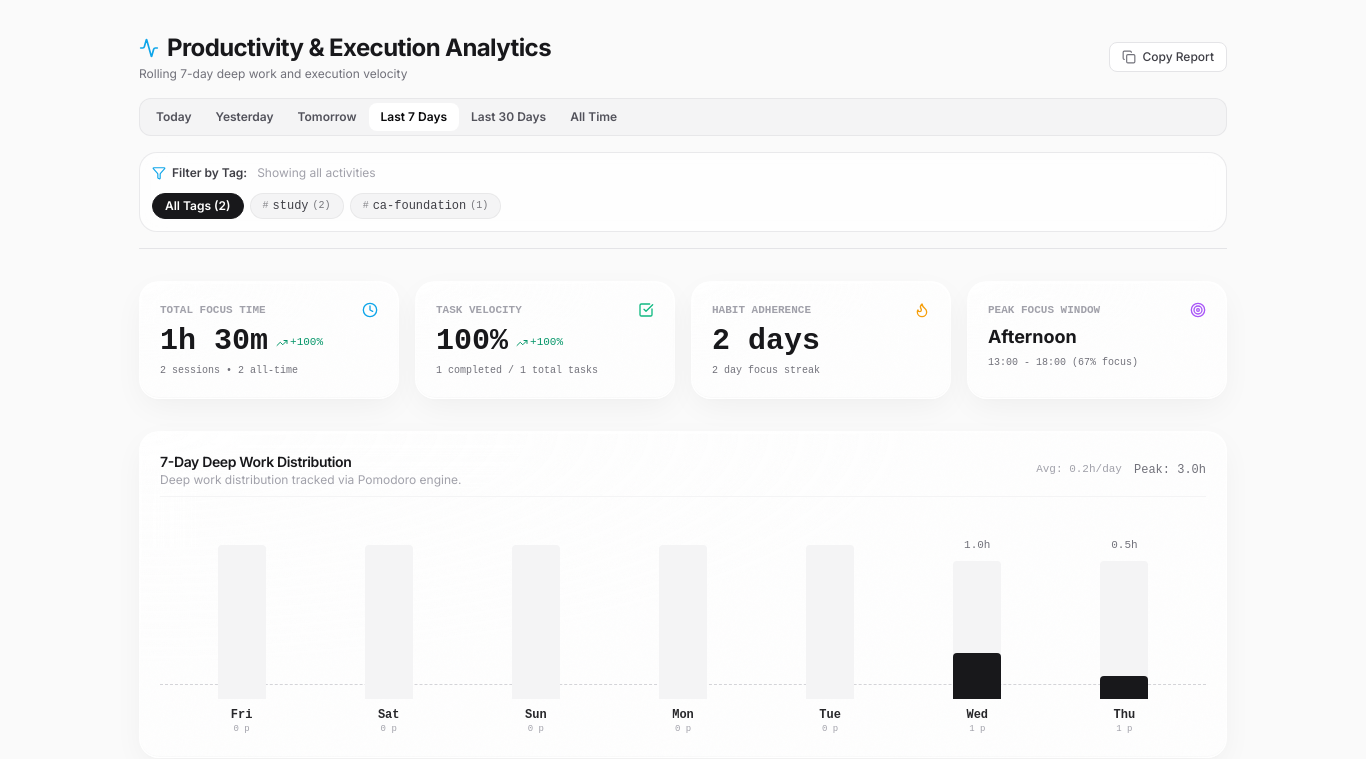
Scenario: Analytics Time Horizon & Tag Filtering Engine › switches between Today, Yesterday, and Tomorrow updating chart and metrics
# Switch to "Today"
Click the button "Today".
click(174, 117)  # box [144, 103, 204, 131]
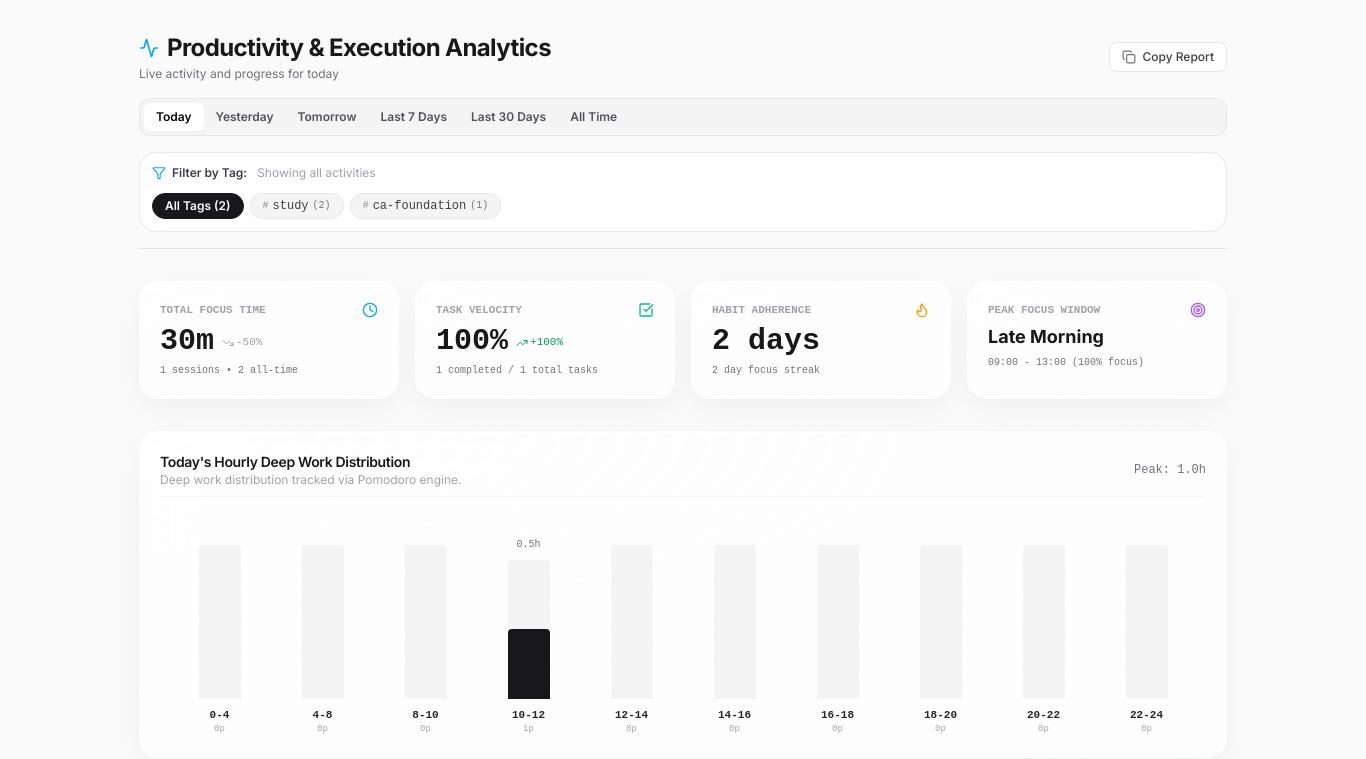
Expected: the text "Live activity and progress for today" is shown, [139, 66, 339, 81]
Expected: the heading "Today's Hourly Deep Work Distribution" is shown, [160, 452, 410, 470]
# Switch to "Yesterday"
Click the button "Yesterday".
click(244, 117)  # box [204, 103, 286, 131]
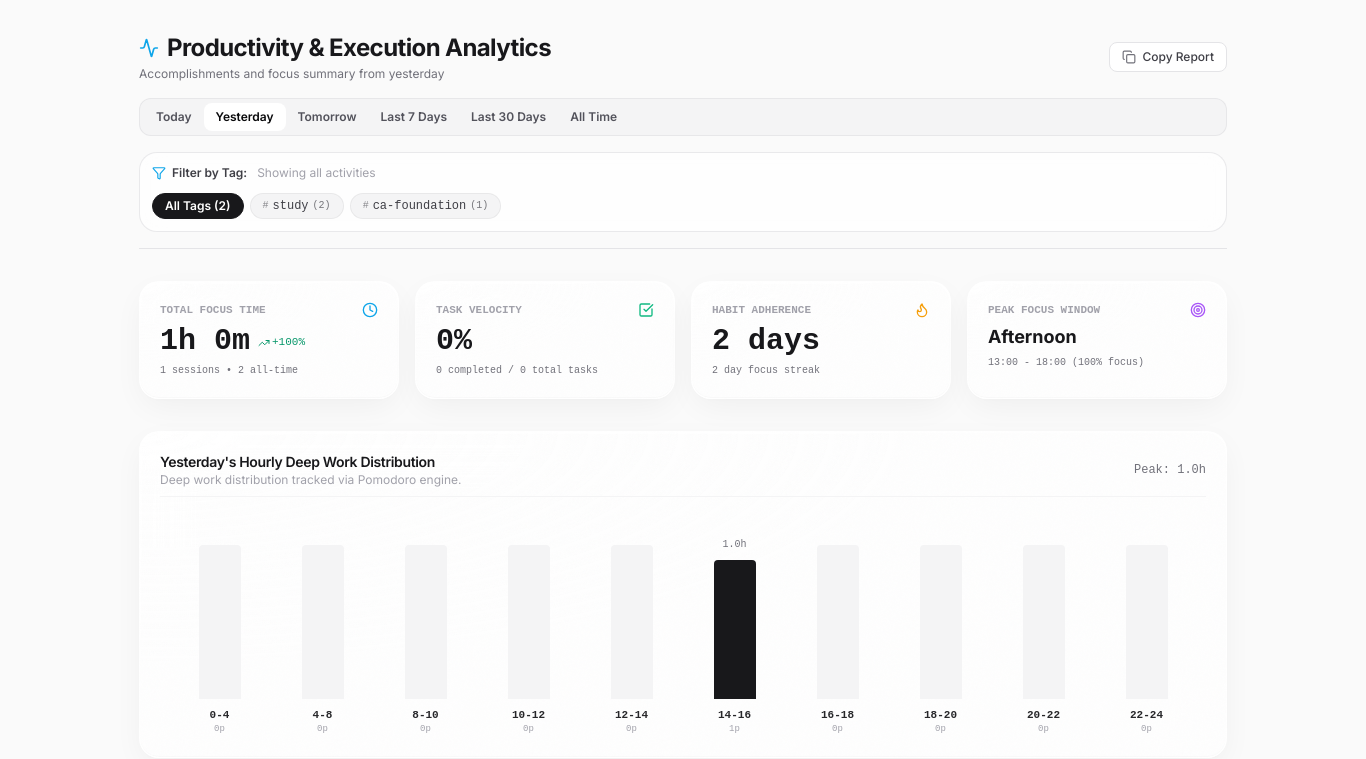
Expected: the text "Accomplishments and focus summary from yesterday" is shown, [139, 66, 444, 81]
Expected: the heading "Yesterday's Hourly Deep Work Distribution" is shown, [160, 452, 462, 472]
# Switch to "Tomorrow"
Click the button "Tomorrow".
click(327, 117)  # box [286, 103, 369, 131]
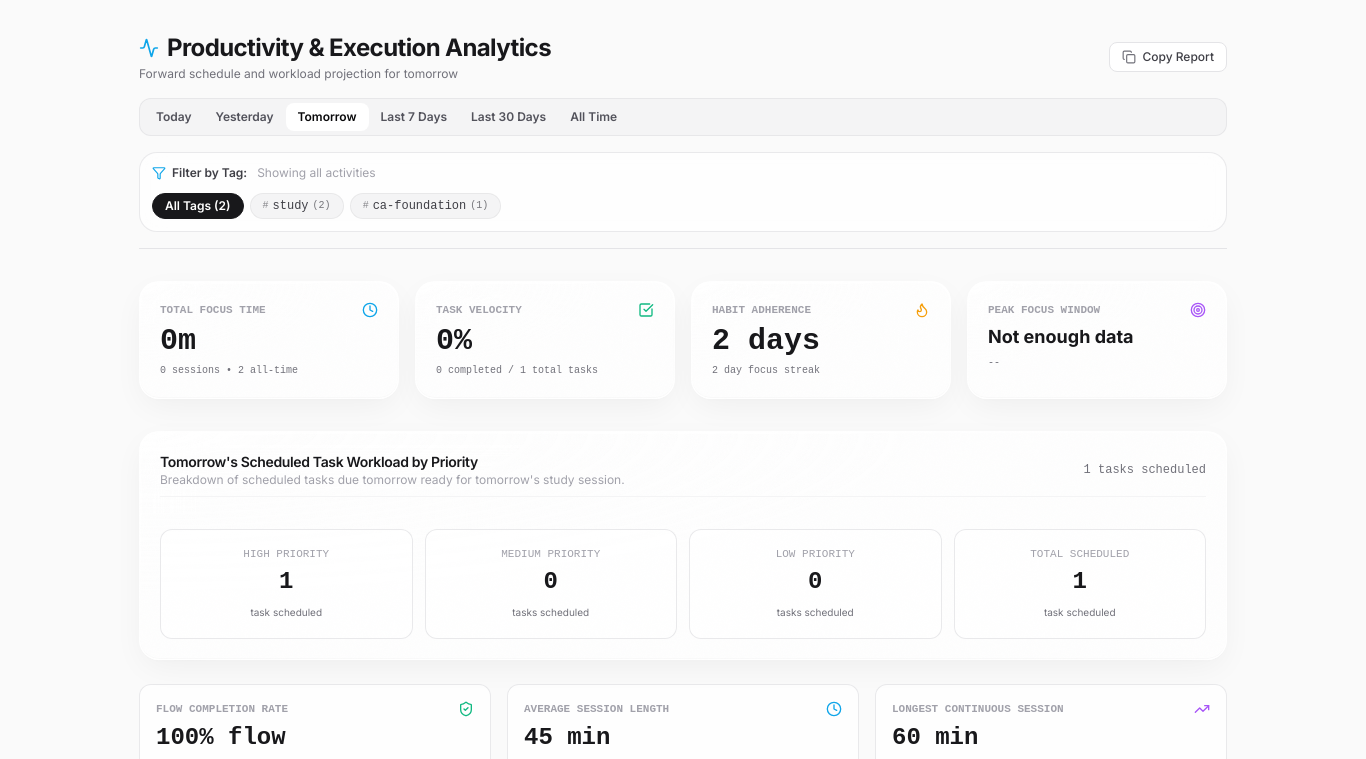
Expected: the text "Forward schedule and workload projection for tomorrow" is shown, [139, 66, 458, 81]
Expected: the heading "Tomorrow's Scheduled Task Workload by Priority" is shown, [160, 452, 478, 470]
Expected: the text "High Priority" is shown, [243, 548, 329, 560]
